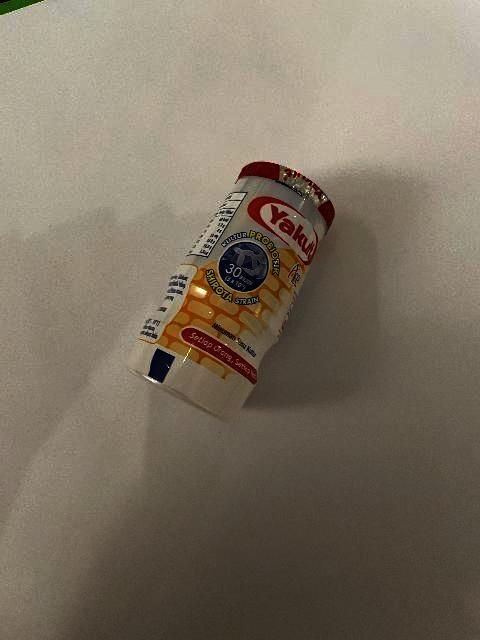plasticbottle: (124, 160, 336, 428)
